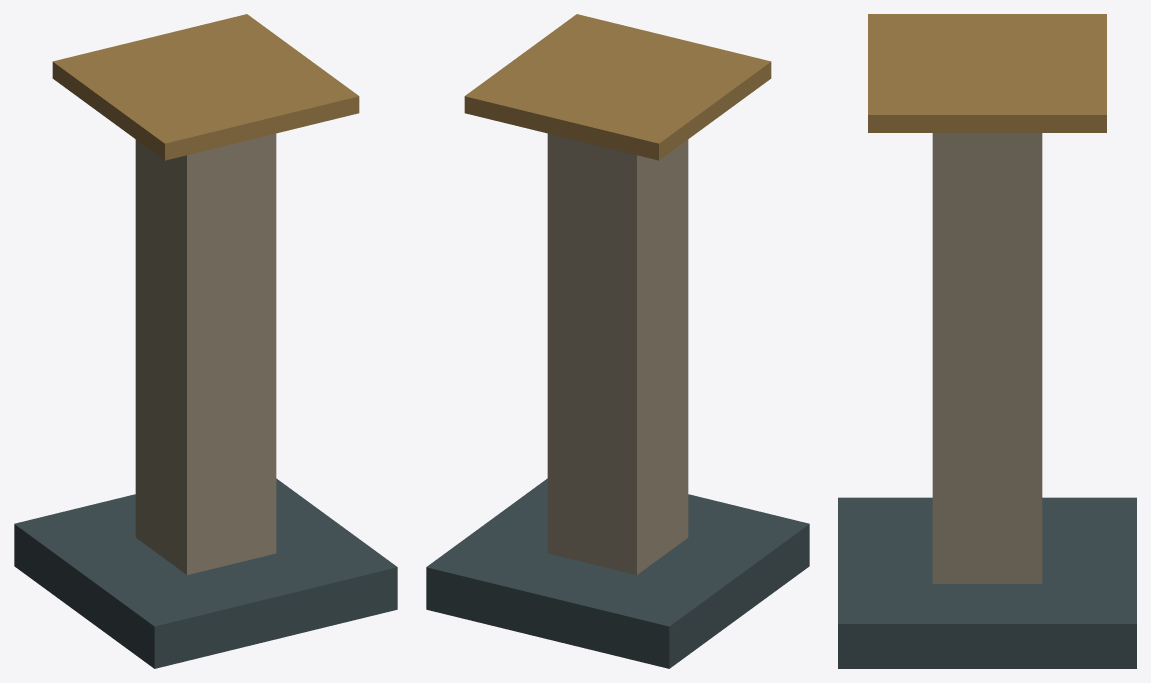
The model's file is observatory_pillar.glb.
3 views of the same model, side by side, from view 1: azimuth 30°, elevation 25°; view 2: azimuth 150°, elevation 25°; view 3: azimuth 270°, elevation 25° (orthographic). The views are drawn at different scales.
Visible parts, largest first — view 1: shaft, base, cap; view 2: shaft, base, cap; view 3: shaft, base, cap.
Part boxes in pixels (bbox=[...]): shaft: bbox=[135, 133, 276, 574]; base: bbox=[14, 478, 397, 668]; cap: bbox=[52, 14, 359, 160]; shaft: bbox=[547, 133, 688, 574]; base: bbox=[426, 478, 809, 668]; cap: bbox=[464, 14, 771, 160]; shaft: bbox=[932, 133, 1042, 583]; base: bbox=[838, 497, 1136, 668]; cap: bbox=[868, 14, 1106, 132].
Size of the model in its own units: 1.5 by 3 by 1.5.
